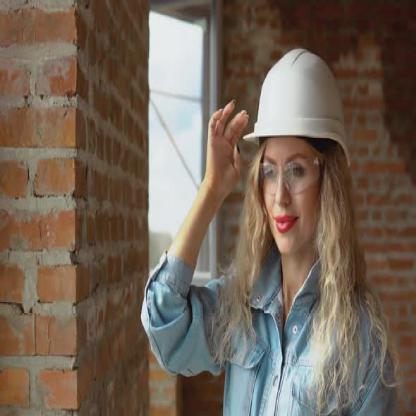Glove: (246, 37, 353, 152)
